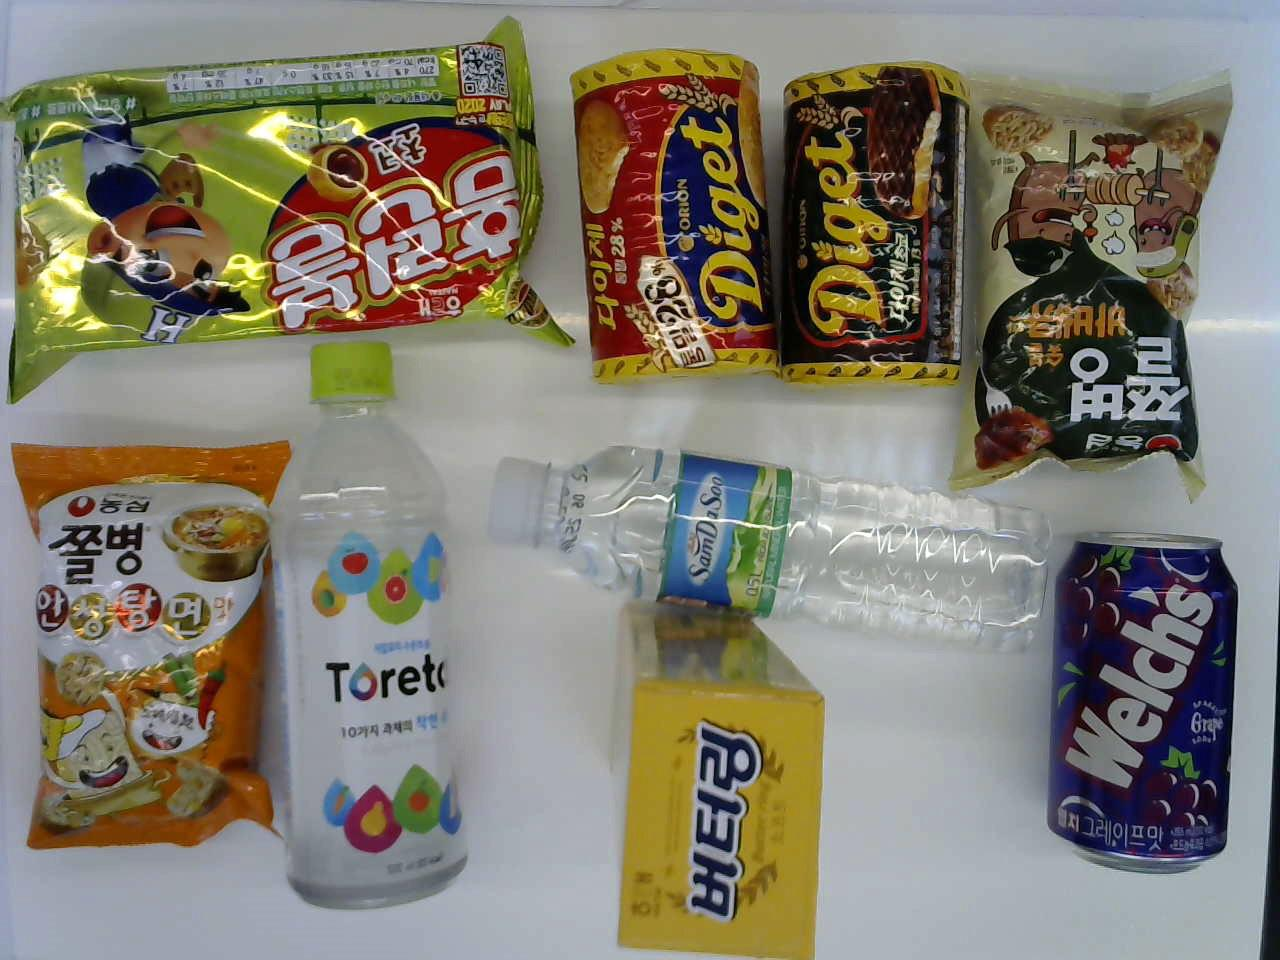buttering: (596, 607, 828, 955)
diget_choco: (758, 47, 968, 397)
diget_ori: (555, 48, 765, 398)
homerunball: (2, 53, 539, 365)
jjolbyung_noodle: (17, 424, 272, 845)
jjolbyung_ori: (968, 72, 1215, 489)
samdasu: (492, 430, 1045, 638)
toreta: (279, 342, 480, 904)
welchs: (1038, 524, 1247, 873)
